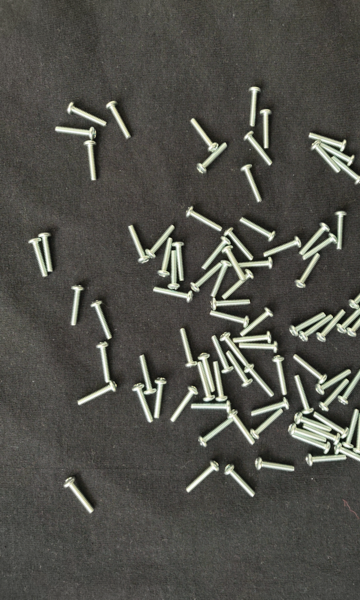longscrew: (61, 476, 97, 515), (220, 332, 253, 370), (89, 298, 116, 343), (196, 141, 230, 176), (186, 460, 221, 494), (171, 384, 200, 425), (224, 464, 257, 500), (198, 417, 236, 448), (66, 101, 109, 128), (250, 408, 285, 441), (318, 378, 351, 413), (316, 308, 348, 344), (239, 306, 275, 338), (293, 353, 329, 385), (243, 130, 274, 167), (76, 380, 118, 407), (221, 269, 255, 302), (105, 101, 133, 141), (223, 227, 255, 262), (310, 140, 342, 175), (299, 222, 331, 257), (302, 232, 339, 262), (228, 409, 257, 447), (239, 216, 278, 244), (245, 364, 276, 399), (184, 205, 224, 232), (189, 117, 219, 153), (312, 411, 349, 440), (295, 252, 323, 290), (226, 351, 254, 389), (145, 224, 175, 259), (201, 236, 231, 271), (299, 314, 335, 343), (131, 383, 155, 426), (315, 368, 353, 395), (190, 262, 223, 293), (211, 334, 235, 376), (240, 164, 265, 204), (319, 141, 357, 167), (289, 311, 327, 337), (127, 224, 151, 265), (293, 374, 316, 415), (330, 156, 360, 187), (222, 246, 247, 283), (290, 433, 332, 455), (211, 259, 234, 299), (28, 237, 50, 278), (308, 131, 349, 153), (303, 424, 342, 447), (196, 361, 217, 403), (287, 423, 329, 444), (262, 236, 302, 258), (137, 355, 158, 396), (338, 367, 360, 406), (294, 412, 334, 433), (197, 353, 217, 394), (208, 310, 251, 329), (271, 354, 290, 397), (95, 340, 113, 385), (250, 397, 290, 417), (180, 327, 199, 369), (341, 408, 360, 450), (336, 302, 360, 335), (153, 286, 194, 305), (37, 232, 55, 274), (81, 140, 99, 182), (254, 456, 296, 474), (157, 236, 174, 279), (55, 125, 99, 141), (69, 283, 84, 329), (334, 443, 360, 469), (213, 361, 229, 403), (248, 85, 263, 128), (190, 399, 233, 414), (305, 453, 348, 468), (171, 241, 186, 283), (239, 340, 281, 355), (154, 377, 168, 421), (260, 108, 274, 150), (232, 331, 274, 345), (235, 257, 275, 271), (209, 297, 252, 310), (335, 210, 348, 252), (168, 250, 181, 291), (347, 303, 360, 338), (349, 276, 360, 310), (354, 412, 360, 457)
